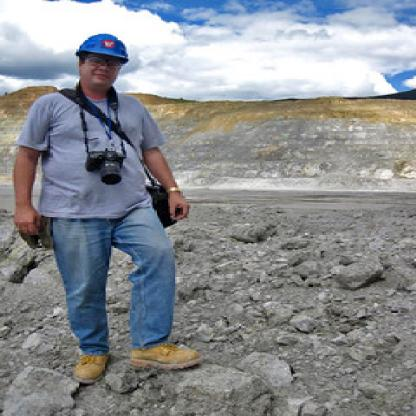person: (14, 23, 229, 385)
